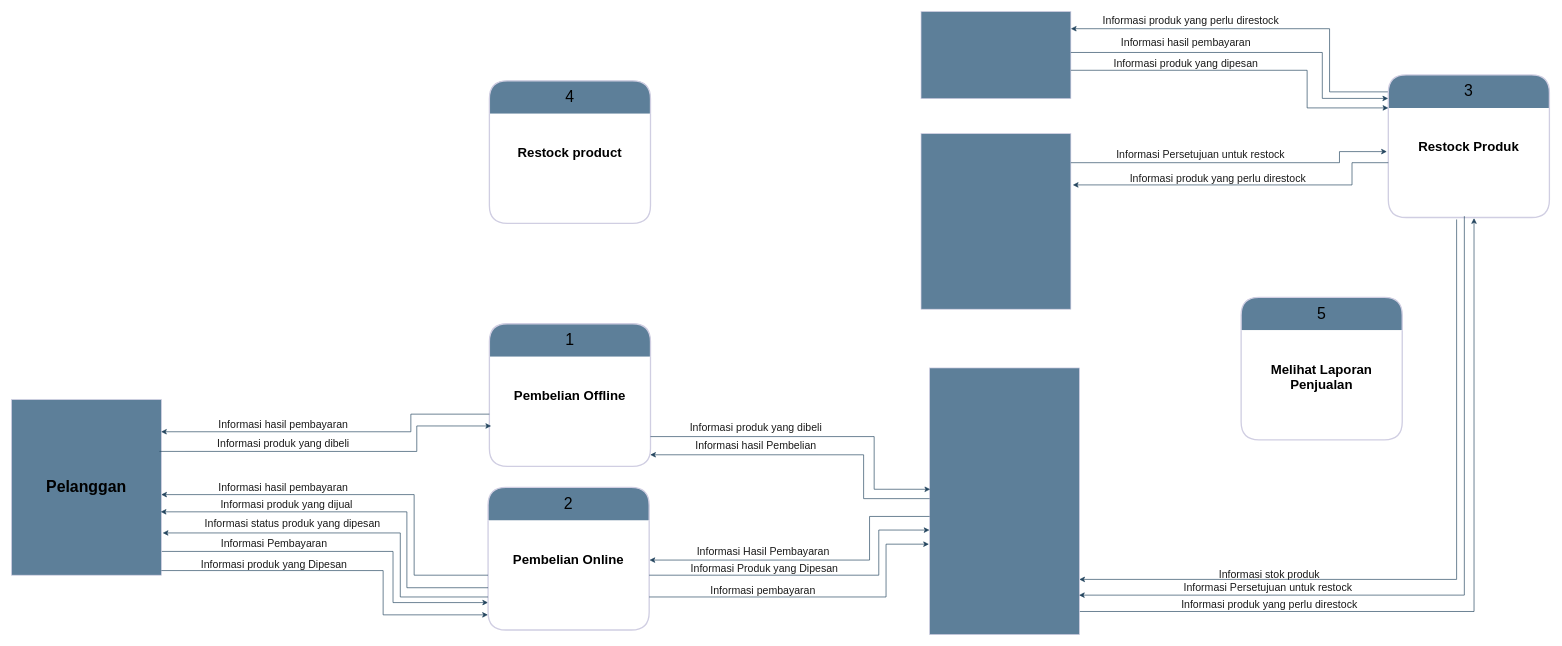
Some shapes in this 1562 by 646 pixel diagram are drawn without their labels. Each missing label, with the centre of its shape:
"Kasir" goes at pixel 1004 501.
"owner" goes at pixel 995 221.
"Vendor" goes at pixel 995 55.
